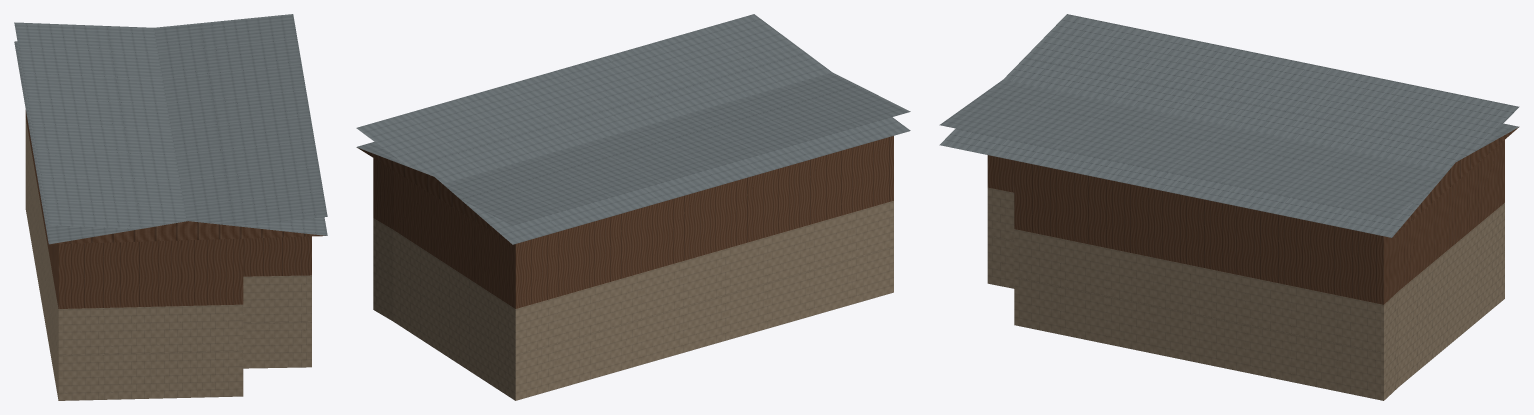
Rendered from bld_c16_44_448.gltf.
3 renders of one model, left to right at view 1: azimuth 30°, elevation 25°; view 2: azimuth 150°, elevation 25°; view 3: azimuth 270°, elevation 25°, orthographic. The views are drawn at different scales.
Parts seen in each view (by area): view 1: bld_c16_44_448; view 2: bld_c16_44_448; view 3: bld_c16_44_448.
Boxes of the visible parts, x1,y1,x2,y2 form: bld_c16_44_448: [14, 14, 327, 400]; bld_c16_44_448: [356, 14, 910, 400]; bld_c16_44_448: [939, 14, 1519, 400].
Bounding box in the file's own units: 21.9 × 9.5 × 26.32.
4 materials, 4 textured.
